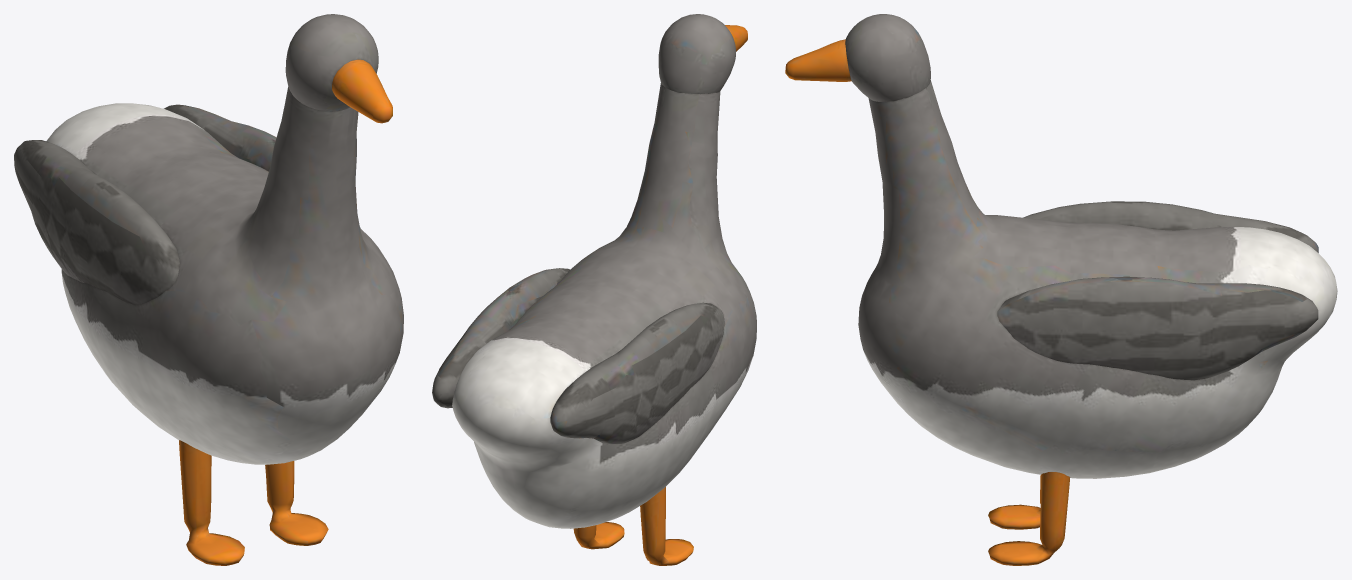
Rendered from animal_toulouse_goose.glb.
The picture shows the model from 3 angles, left to right: view 1: azimuth 30°, elevation 25°; view 2: azimuth 150°, elevation 25°; view 3: azimuth 270°, elevation 25°; orthographic projection. The views are drawn at different scales.
Parts seen in each view (by area): view 1: animal_toulouse_goose, head, leg0, leg1; view 2: animal_toulouse_goose, head, leg0, leg1; view 3: animal_toulouse_goose, head, leg1, leg0.
Part boxes in pixels (x1,y1,x2,y2): animal_toulouse_goose: [14, 87, 403, 464]; head: [285, 14, 392, 123]; leg0: [179, 440, 244, 565]; leg1: [265, 461, 328, 545]; animal_toulouse_goose: [432, 83, 756, 528]; head: [658, 14, 747, 94]; leg0: [640, 487, 693, 565]; leg1: [573, 522, 624, 549]; animal_toulouse_goose: [858, 80, 1337, 478]; head: [785, 14, 930, 102]; leg1: [988, 472, 1069, 565]; leg0: [988, 475, 1041, 529].
Bounding box in the file's own units: 0.1774 × 0.4423 × 0.4229.
Materials: 1 (1 with a texture image).
